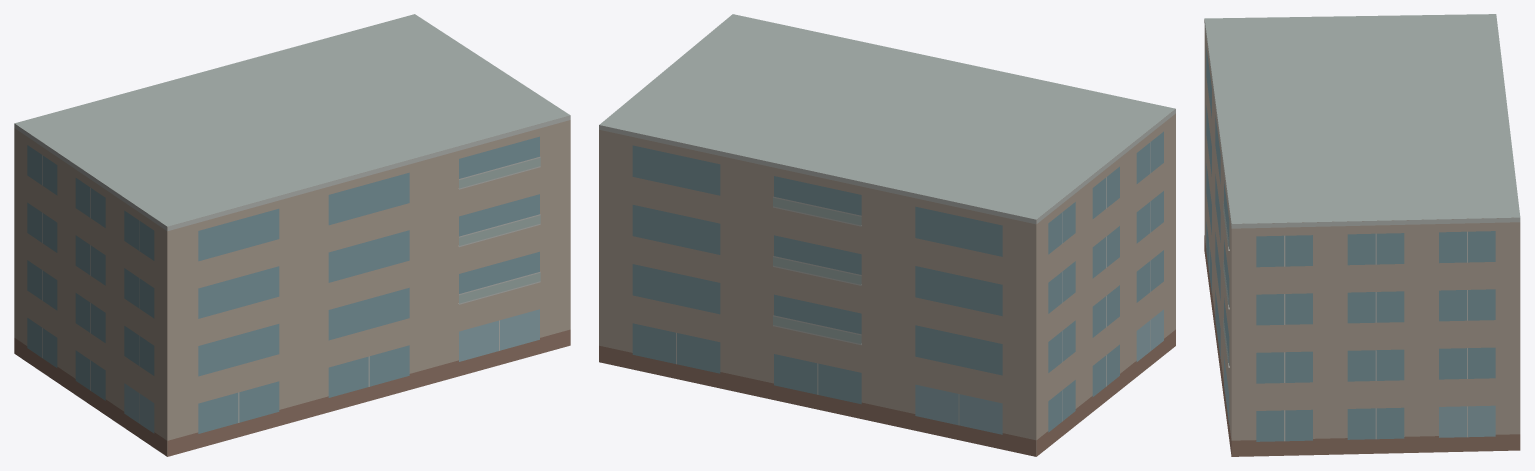
File: survey-upis-32635484.glb
3 renders of one model, left to right at view 1: azimuth 30°, elevation 25°; view 2: azimuth 150°, elevation 25°; view 3: azimuth 270°, elevation 25°, orthographic. The views are drawn at different scales.
Visible parts, largest first — view 1: survey-upis-32635484.tmp; view 2: survey-upis-32635484.tmp; view 3: survey-upis-32635484.tmp.
Boxes of the visible parts, left/top/right/bottom form: survey-upis-32635484.tmp: left=14, top=14, right=570, bottom=456; survey-upis-32635484.tmp: left=599, top=14, right=1175, bottom=456; survey-upis-32635484.tmp: left=1204, top=14, right=1520, bottom=456.
Size of the model in its own units: 23.61 by 12.2 by 15.01.
